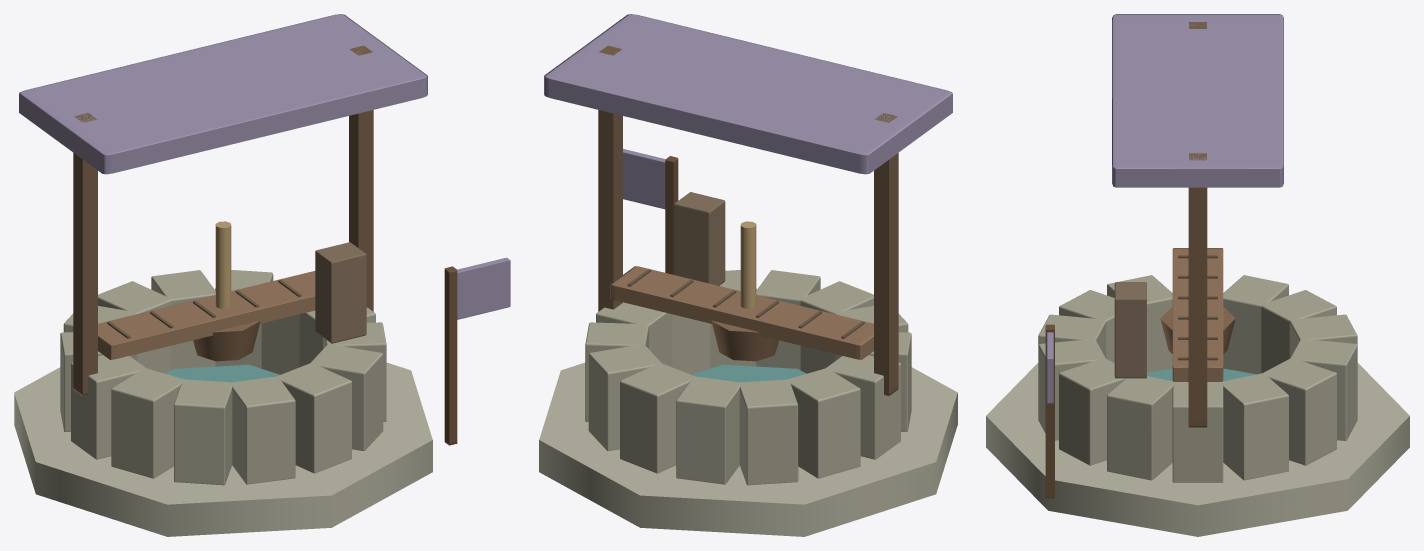
Rendered from oldwell-2.glb.
3 renders of one model, left to right at view 1: azimuth 30°, elevation 25°; view 2: azimuth 150°, elevation 25°; view 3: azimuth 270°, elevation 25°, orthographic. The views are drawn at different scales.
Visible parts, largest first — view 1: oldwell-2-0, landmark-restored, landmark-ruin; view 2: oldwell-2-0, landmark-restored, landmark-ruin; view 3: oldwell-2-0, landmark-restored, landmark-ruin.
Part boxes in pixels (bbox=[...]): oldwell-2-0: bbox=[14, 270, 432, 536]; landmark-restored: bbox=[19, 14, 510, 445]; landmark-ruin: bbox=[98, 242, 366, 359]; oldwell-2-0: bbox=[539, 270, 957, 536]; landmark-restored: bbox=[544, 14, 952, 396]; landmark-ruin: bbox=[610, 192, 873, 359]; oldwell-2-0: bbox=[986, 275, 1409, 536]; landmark-restored: bbox=[1045, 14, 1283, 498]; landmark-ruin: bbox=[1114, 248, 1223, 381].
Bounding box in the file's own units: 1.68 × 1.46 × 1.58.
